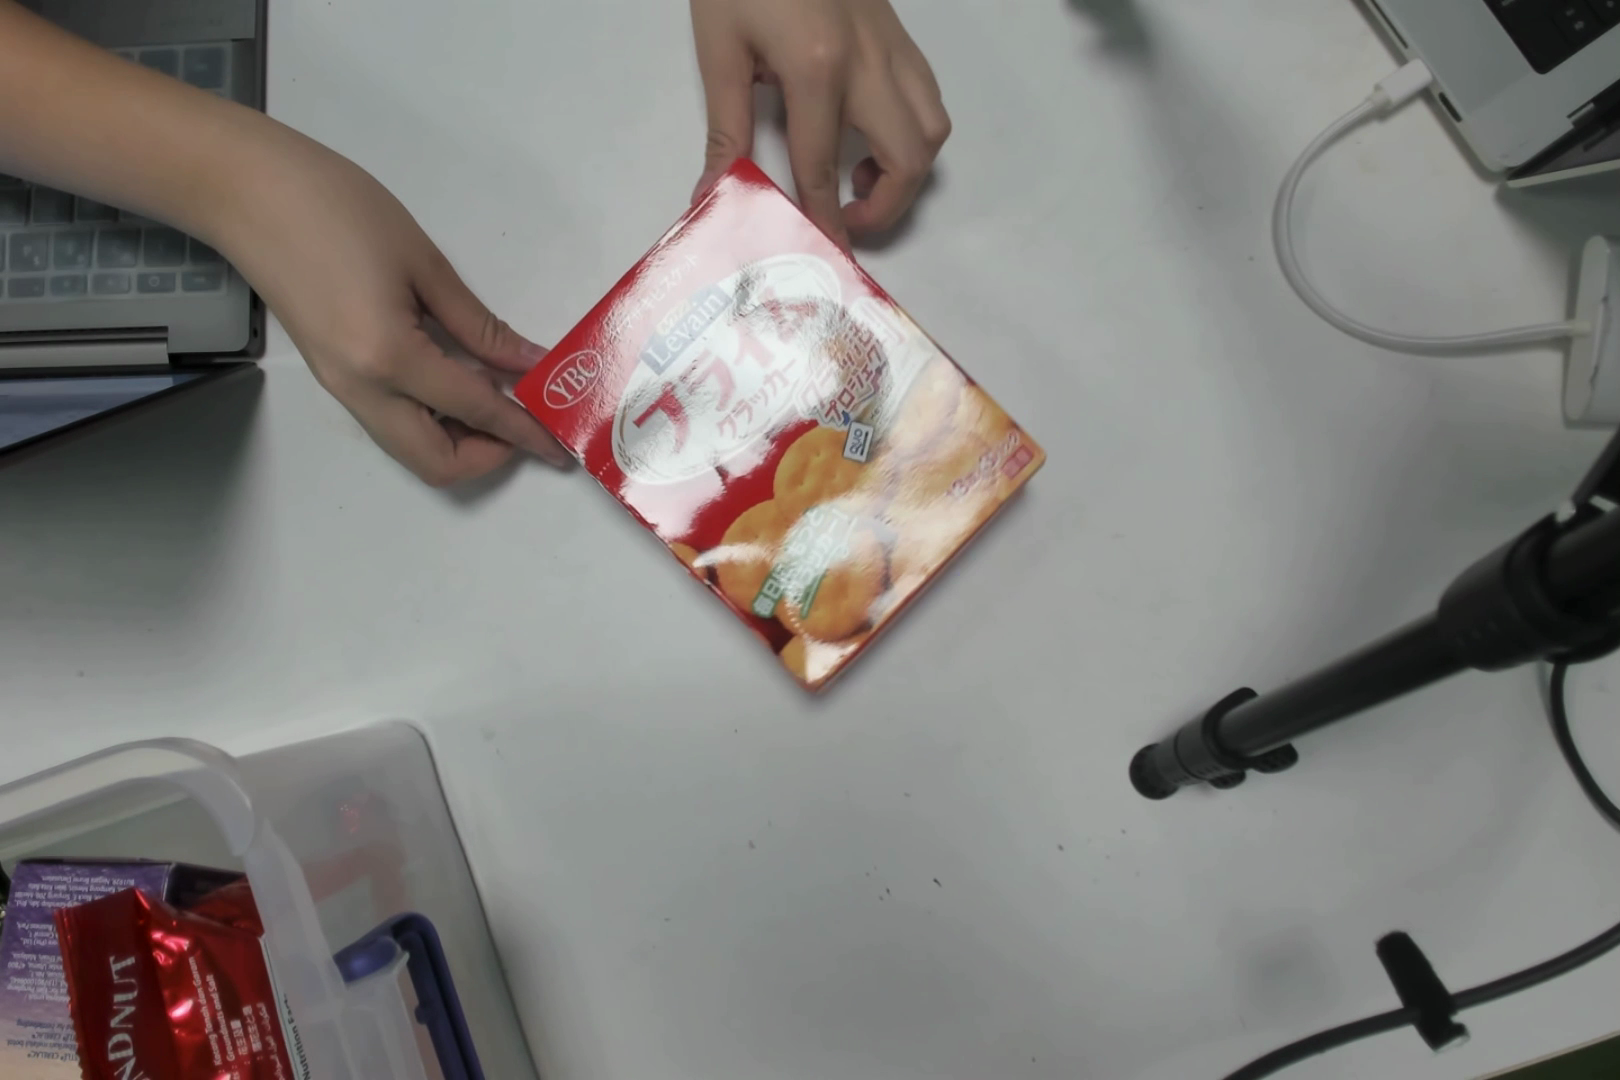c: (544, 252, 1006, 642)
